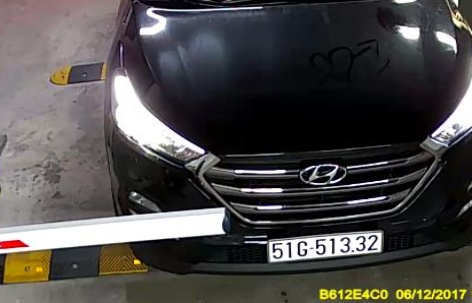plate: (261, 228, 384, 268)
